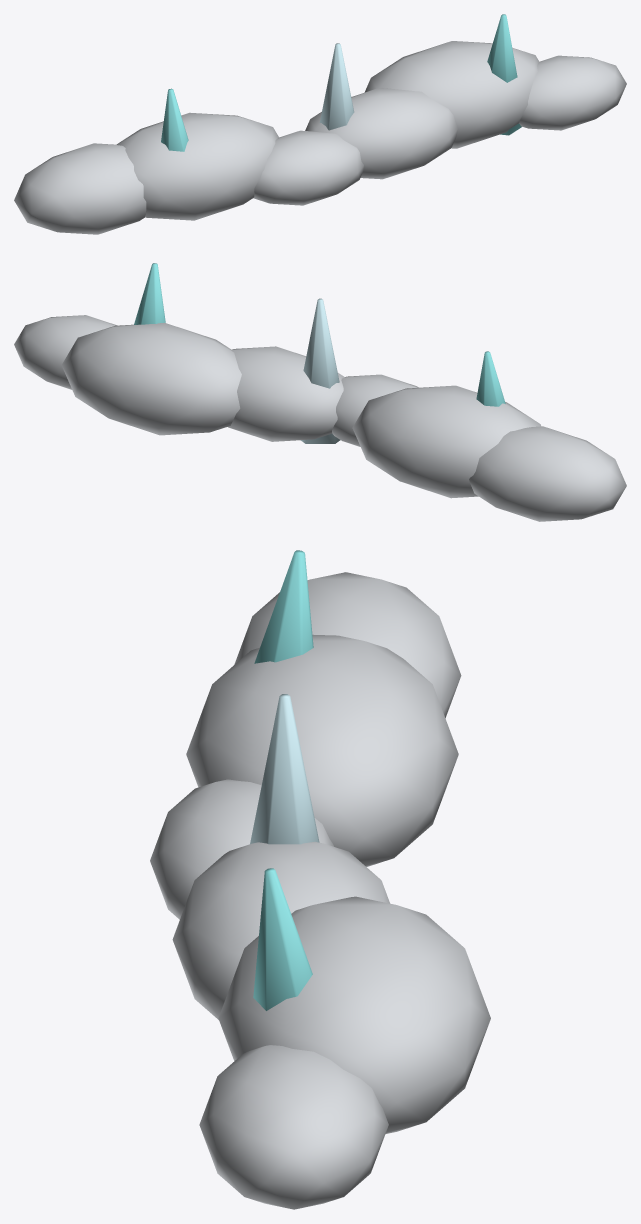
File: slide_snowbank_1.glb
The picture shows the model from 3 angles, top to bottom: view 1: azimuth 30°, elevation 25°; view 2: azimuth 150°, elevation 25°; view 3: azimuth 270°, elevation 25°; orthographic projection. The views are drawn at different scales.
Visible parts, largest first — view 1: SnowMass_1.001, SnowMass_4.001, SnowMass_0.001, SnowMass_3.001, SnowMass_2.001, SnowMass_5, IceMarker_1.001, IceMarker_2.001, IceMarker_0.001; view 2: SnowMass_4.001, SnowMass_1.001, SnowMass_0.001, SnowMass_3.001, SnowMass_5, SnowMass_2.001, IceMarker_1.001, IceMarker_2.001, IceMarker_0.001; view 3: SnowMass_1.001, SnowMass_4.001, SnowMass_5, SnowMass_3.001, SnowMass_0.001, SnowMass_2.001, IceMarker_1.001, IceMarker_2.001, IceMarker_0.001.
Boxes of the visible parts, left/top/right/bottom form: SnowMass_1.001: left=116, top=112, right=278, bottom=220; SnowMass_4.001: left=364, top=41, right=539, bottom=148; SnowMass_0.001: left=14, top=143, right=146, bottom=234; SnowMass_3.001: left=305, top=88, right=458, bottom=179; SnowMass_2.001: left=253, top=130, right=363, bottom=205; SnowMass_5: left=519, top=55, right=626, bottom=130; IceMarker_1.001: left=319, top=43, right=354, bottom=130; IceMarker_2.001: left=487, top=14, right=521, bottom=135; IceMarker_0.001: left=161, top=88, right=188, bottom=151; SnowMass_4.001: left=61, top=322, right=241, bottom=435; SnowMass_1.001: left=352, top=385, right=541, bottom=498; SnowMass_0.001: left=469, top=426, right=626, bottom=521; SnowMass_3.001: left=228, top=346, right=344, bottom=441; SnowMass_5: left=14, top=315, right=117, bottom=389; SnowMass_2.001: left=332, top=374, right=418, bottom=446; IceMarker_1.001: left=301, top=298, right=340, bottom=443; IceMarker_2.001: left=134, top=263, right=165, bottom=324; IceMarker_0.001: left=476, top=351, right=505, bottom=406; SnowMass_1.001: left=186, top=634, right=458, bottom=866; SnowMass_4.001: left=218, top=896, right=490, bottom=1133; SnowMass_5: left=199, top=1045, right=388, bottom=1209; SnowMass_3.001: left=172, top=841, right=389, bottom=1019; SnowMass_0.001: left=234, top=572, right=461, bottom=717; SnowMass_2.001: left=150, top=779, right=333, bottom=919; IceMarker_1.001: left=250, top=694, right=319, bottom=844; IceMarker_2.001: left=253, top=868, right=312, bottom=1010; IceMarker_0.001: left=254, top=550, right=313, bottom=663.
Bounding box in the file's own units: 10.03 × 2.31 × 2.54.
